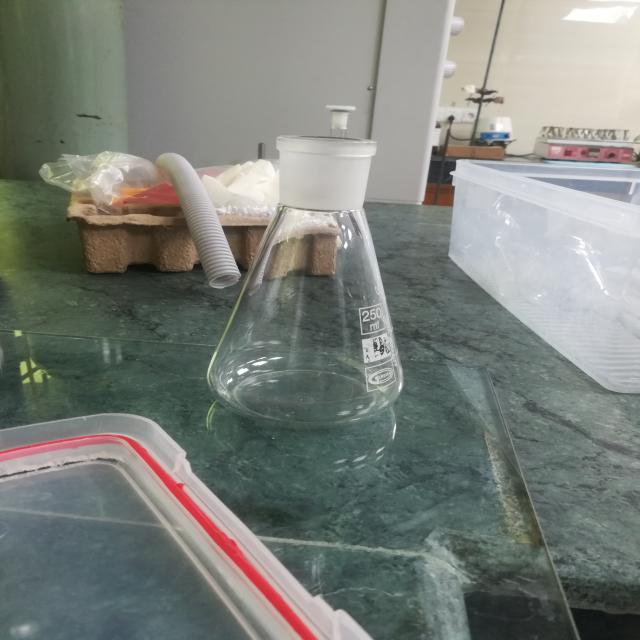Conical_Flask: (179, 96, 438, 446)
